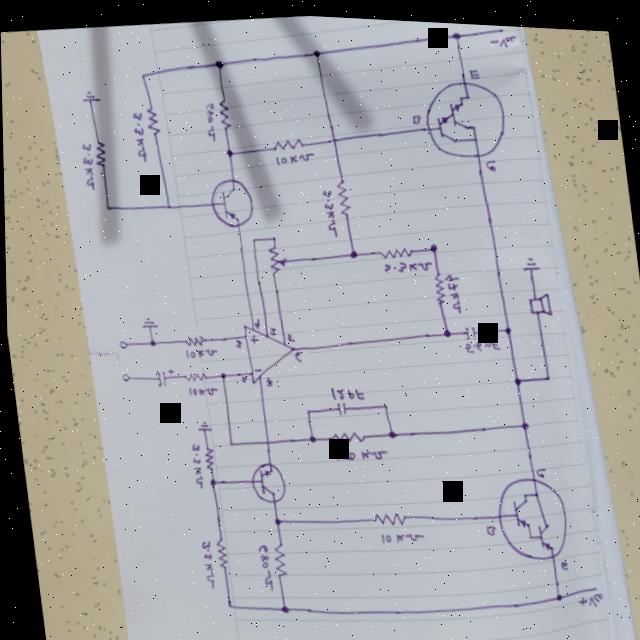capacitor: (152, 364, 174, 387), (331, 396, 347, 413), (461, 319, 476, 337)
crossover: (327, 131, 338, 143), (260, 434, 271, 446)
ground: (517, 249, 540, 268), (79, 86, 102, 105), (137, 313, 158, 330), (194, 418, 210, 431)
junction: (425, 237, 439, 251), (269, 512, 281, 525), (212, 56, 225, 68), (222, 145, 234, 157), (346, 245, 358, 256), (439, 323, 450, 335), (509, 370, 520, 382), (311, 45, 322, 57), (275, 601, 287, 612), (221, 598, 232, 610), (450, 26, 461, 37), (384, 425, 395, 436), (500, 319, 511, 330), (304, 431, 315, 442), (517, 415, 528, 426), (215, 368, 226, 379), (205, 475, 216, 486), (145, 337, 156, 347), (551, 587, 561, 597), (163, 200, 172, 210), (378, 398, 387, 408), (301, 403, 310, 413), (541, 368, 550, 377), (138, 70, 147, 79), (224, 437, 233, 446), (102, 202, 111, 211), (248, 233, 257, 242), (269, 232, 276, 239)
resistor: (367, 504, 407, 527), (266, 538, 287, 578), (332, 174, 352, 214), (375, 239, 415, 259), (263, 240, 286, 274), (326, 423, 365, 443), (270, 131, 306, 152), (142, 103, 162, 137), (215, 95, 232, 130), (429, 267, 446, 302), (210, 536, 228, 569), (92, 139, 107, 169), (199, 444, 215, 471), (181, 331, 206, 348), (181, 368, 206, 383)
terminal: (116, 339, 128, 350), (119, 371, 130, 382), (498, 21, 506, 29), (590, 579, 597, 586)
text: (330, 442, 388, 463), (128, 108, 148, 162), (380, 252, 432, 272), (318, 183, 338, 235), (195, 537, 215, 588), (77, 140, 97, 190), (253, 540, 272, 589), (376, 523, 424, 542), (443, 268, 462, 312), (273, 146, 317, 165), (186, 439, 203, 488), (327, 381, 365, 402), (461, 332, 499, 352), (202, 98, 218, 141), (183, 344, 216, 361), (489, 26, 518, 45), (574, 585, 602, 604), (185, 382, 217, 398), (482, 153, 497, 168), (467, 62, 481, 77), (481, 518, 495, 533), (532, 460, 545, 474), (409, 109, 422, 122), (290, 347, 302, 361), (261, 373, 273, 386), (230, 336, 242, 349), (249, 315, 261, 328), (556, 553, 567, 566), (284, 329, 295, 341), (265, 324, 277, 335), (237, 370, 246, 382)
transistor: (417, 67, 509, 163), (491, 468, 570, 560), (205, 174, 256, 230), (245, 457, 288, 505)
